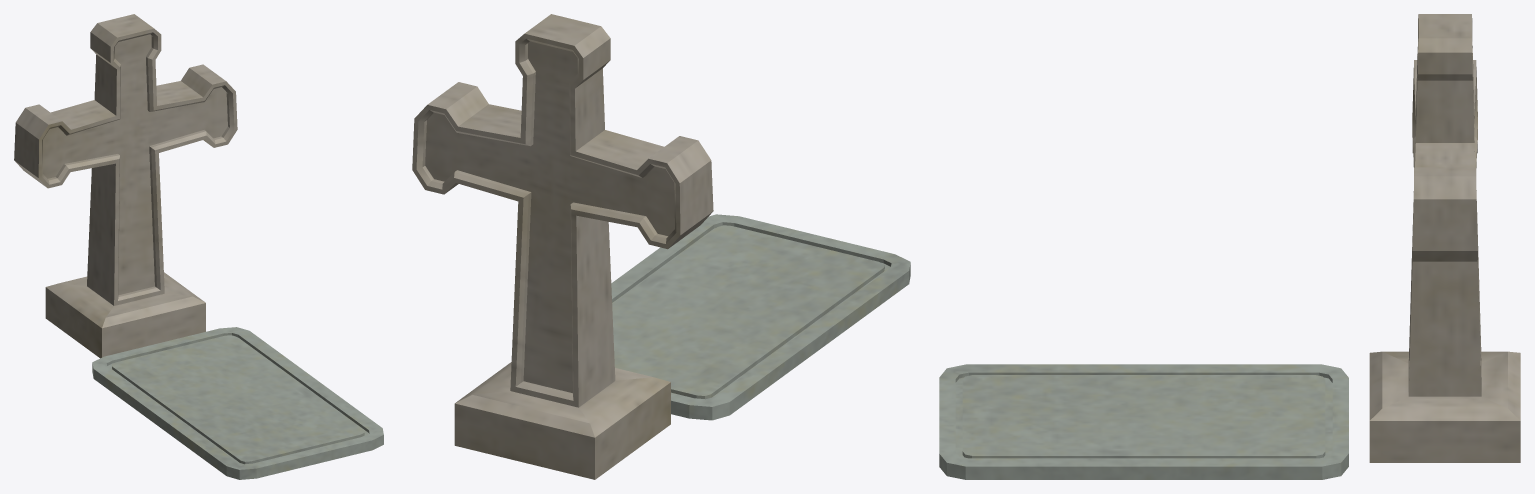
File: gg_GraveStone_01.FBX
3 renders of one model, left to right at view 1: azimuth 30°, elevation 25°; view 2: azimuth 150°, elevation 25°; view 3: azimuth 270°, elevation 25°, orthographic. The views are drawn at different scales.
Visible parts, largest first — view 1: gg_GraveStone_01, Grave; view 2: gg_GraveStone_01, Grave; view 3: Grave, gg_GraveStone_01.
Boxes of the visible parts, x1,y1,x2,y2 form: gg_GraveStone_01: [14, 14, 237, 358]; Grave: [92, 327, 383, 479]; gg_GraveStone_01: [412, 14, 713, 479]; Grave: [611, 214, 910, 420]; Grave: [939, 364, 1348, 479]; gg_GraveStone_01: [1369, 14, 1520, 462].
Size of the model in its own units: 67.8 by 97.87 by 128.
Materials: 2 (2 with a texture image).
